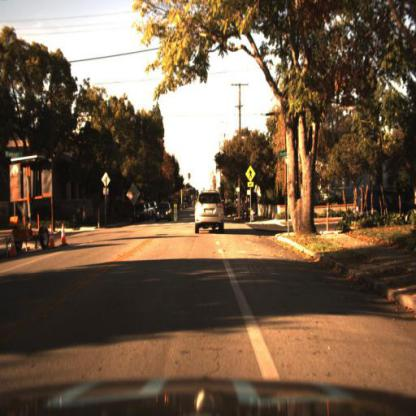car: (193, 186, 227, 235), (358, 188, 394, 216), (153, 200, 174, 225), (154, 198, 172, 226), (131, 203, 147, 224)
